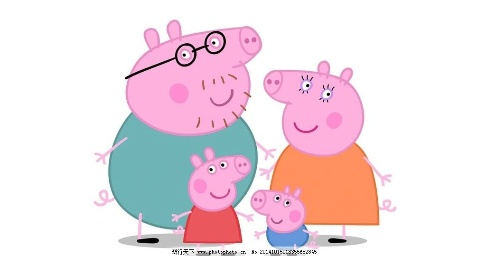Peppa: (172, 146, 254, 246)
